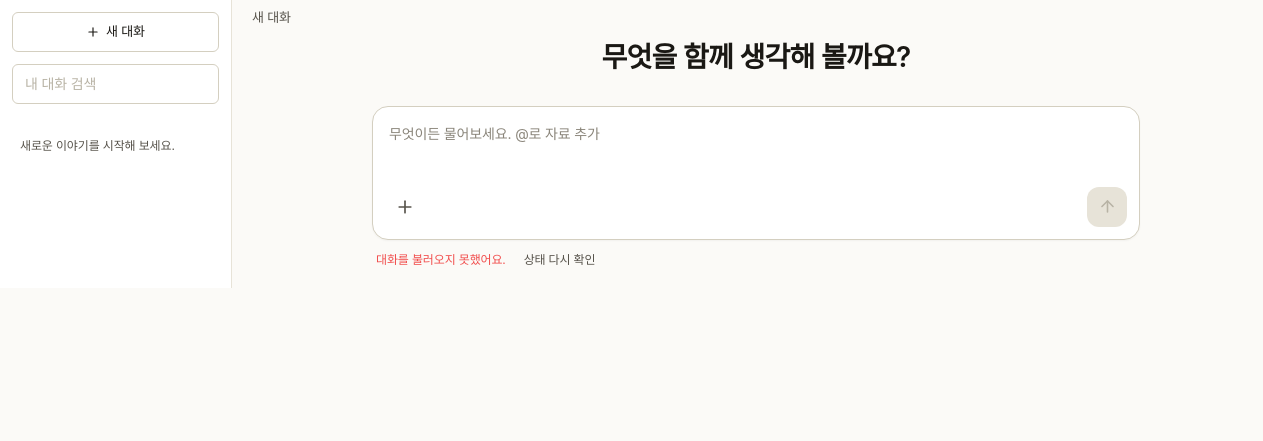
AI 연구 채팅 › 저장 대화의 첫 조회가 실패해도 같은 주소를 다시 조회하여 복구한다
The width and height of the screenshot is (1263, 441).
Click the button "상태 다시 확인" at (560, 260), box x1=514 y1=248 x2=605 y2=272
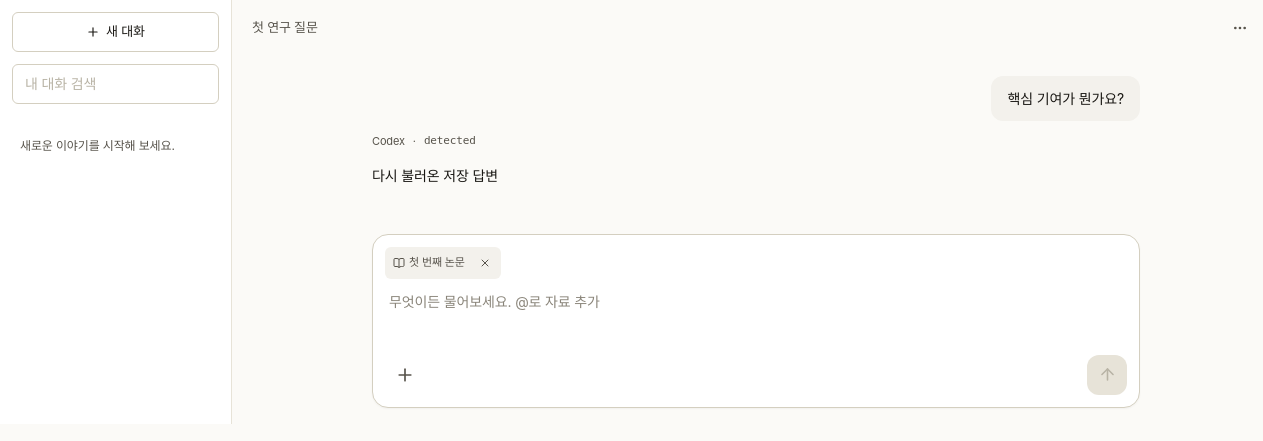
Expected: the text "다시 불러온 저장 답변" is shown, x1=372 y1=166 x2=498 y2=184
